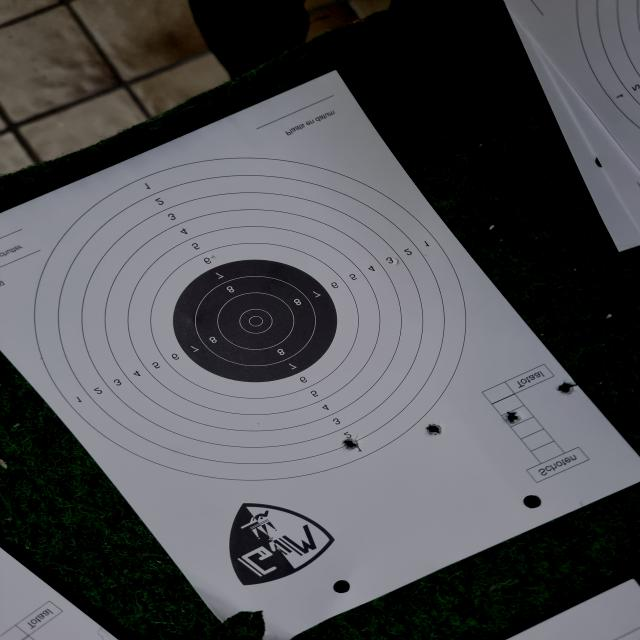0: (557, 382, 576, 396), (505, 411, 523, 425), (426, 424, 443, 436)
2: (342, 438, 359, 450)
Target: (33, 157, 466, 482)
black_contour: (171, 258, 338, 382)
